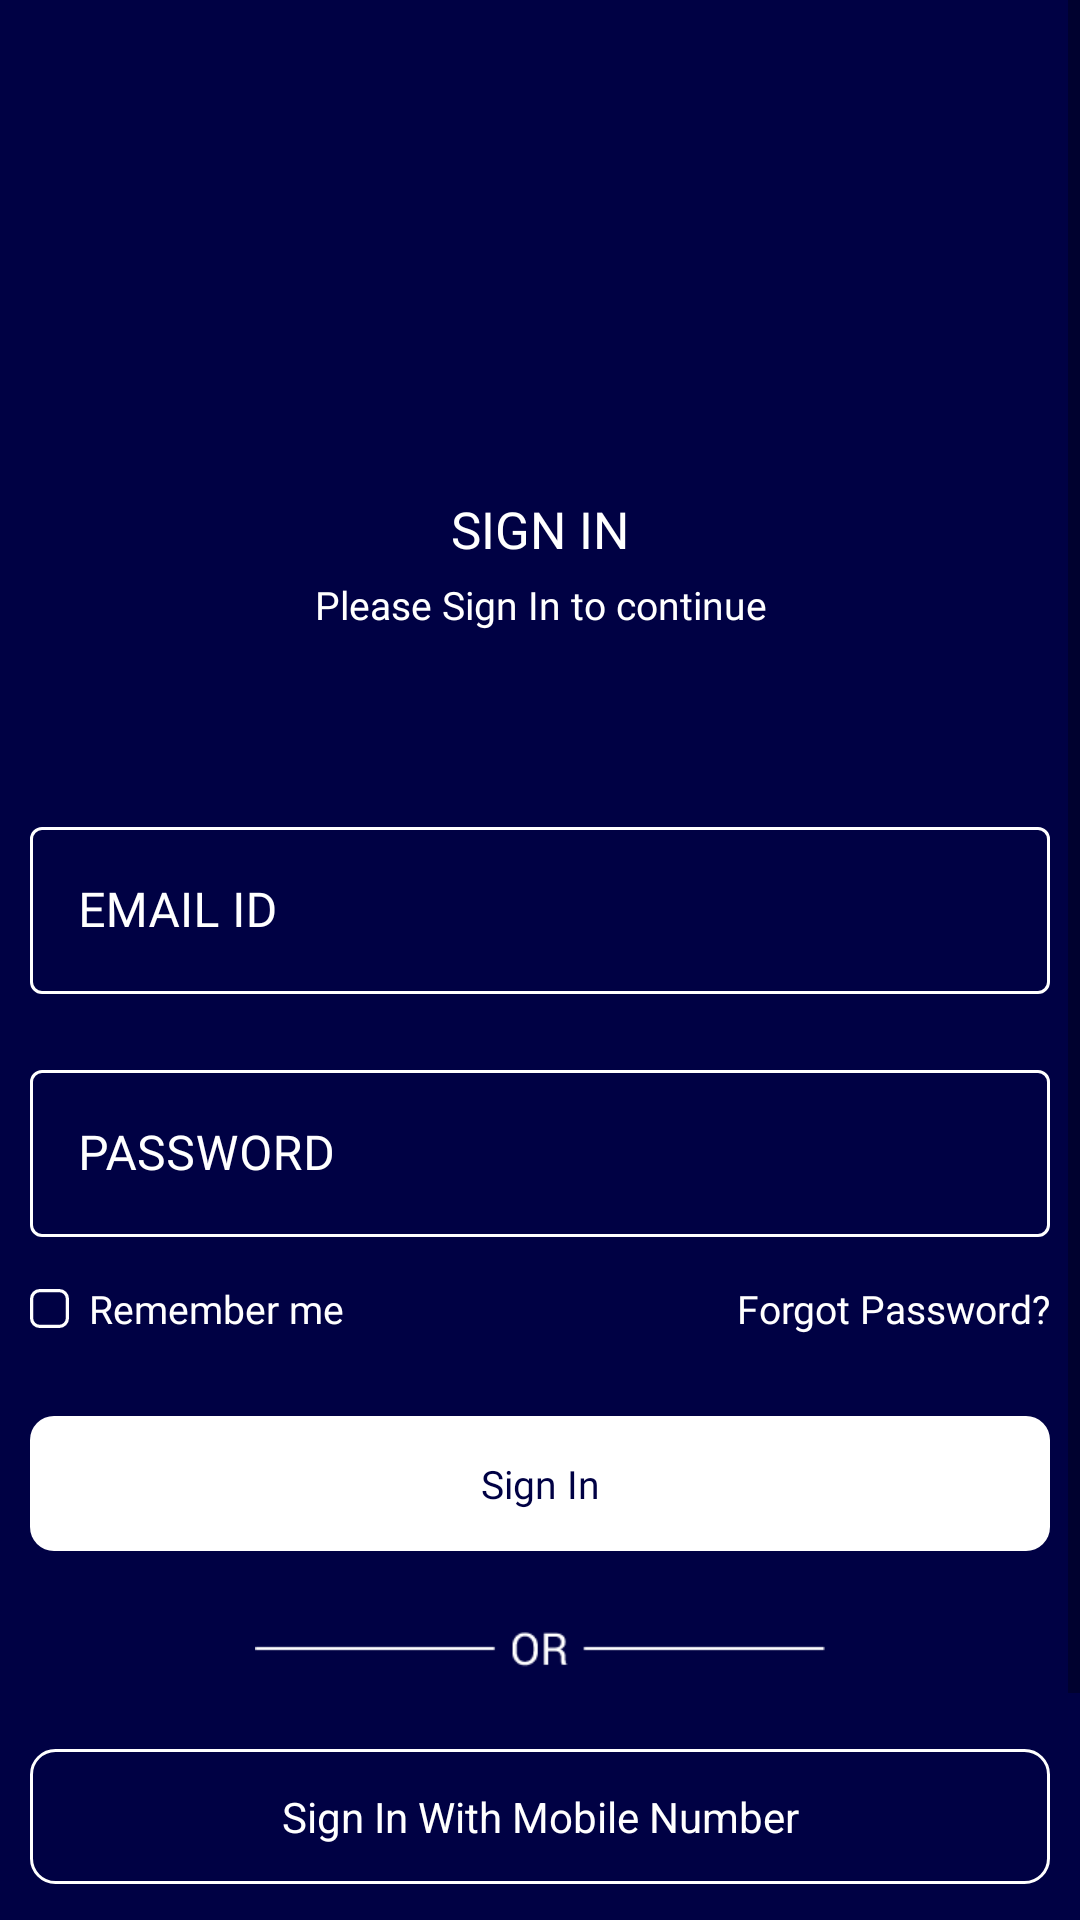

Locate icon controls on the screen. Image size 1080px x 1920px, boxes as (x1, y1, x2, y2).
unchecked: (30, 1289, 69, 1328)
